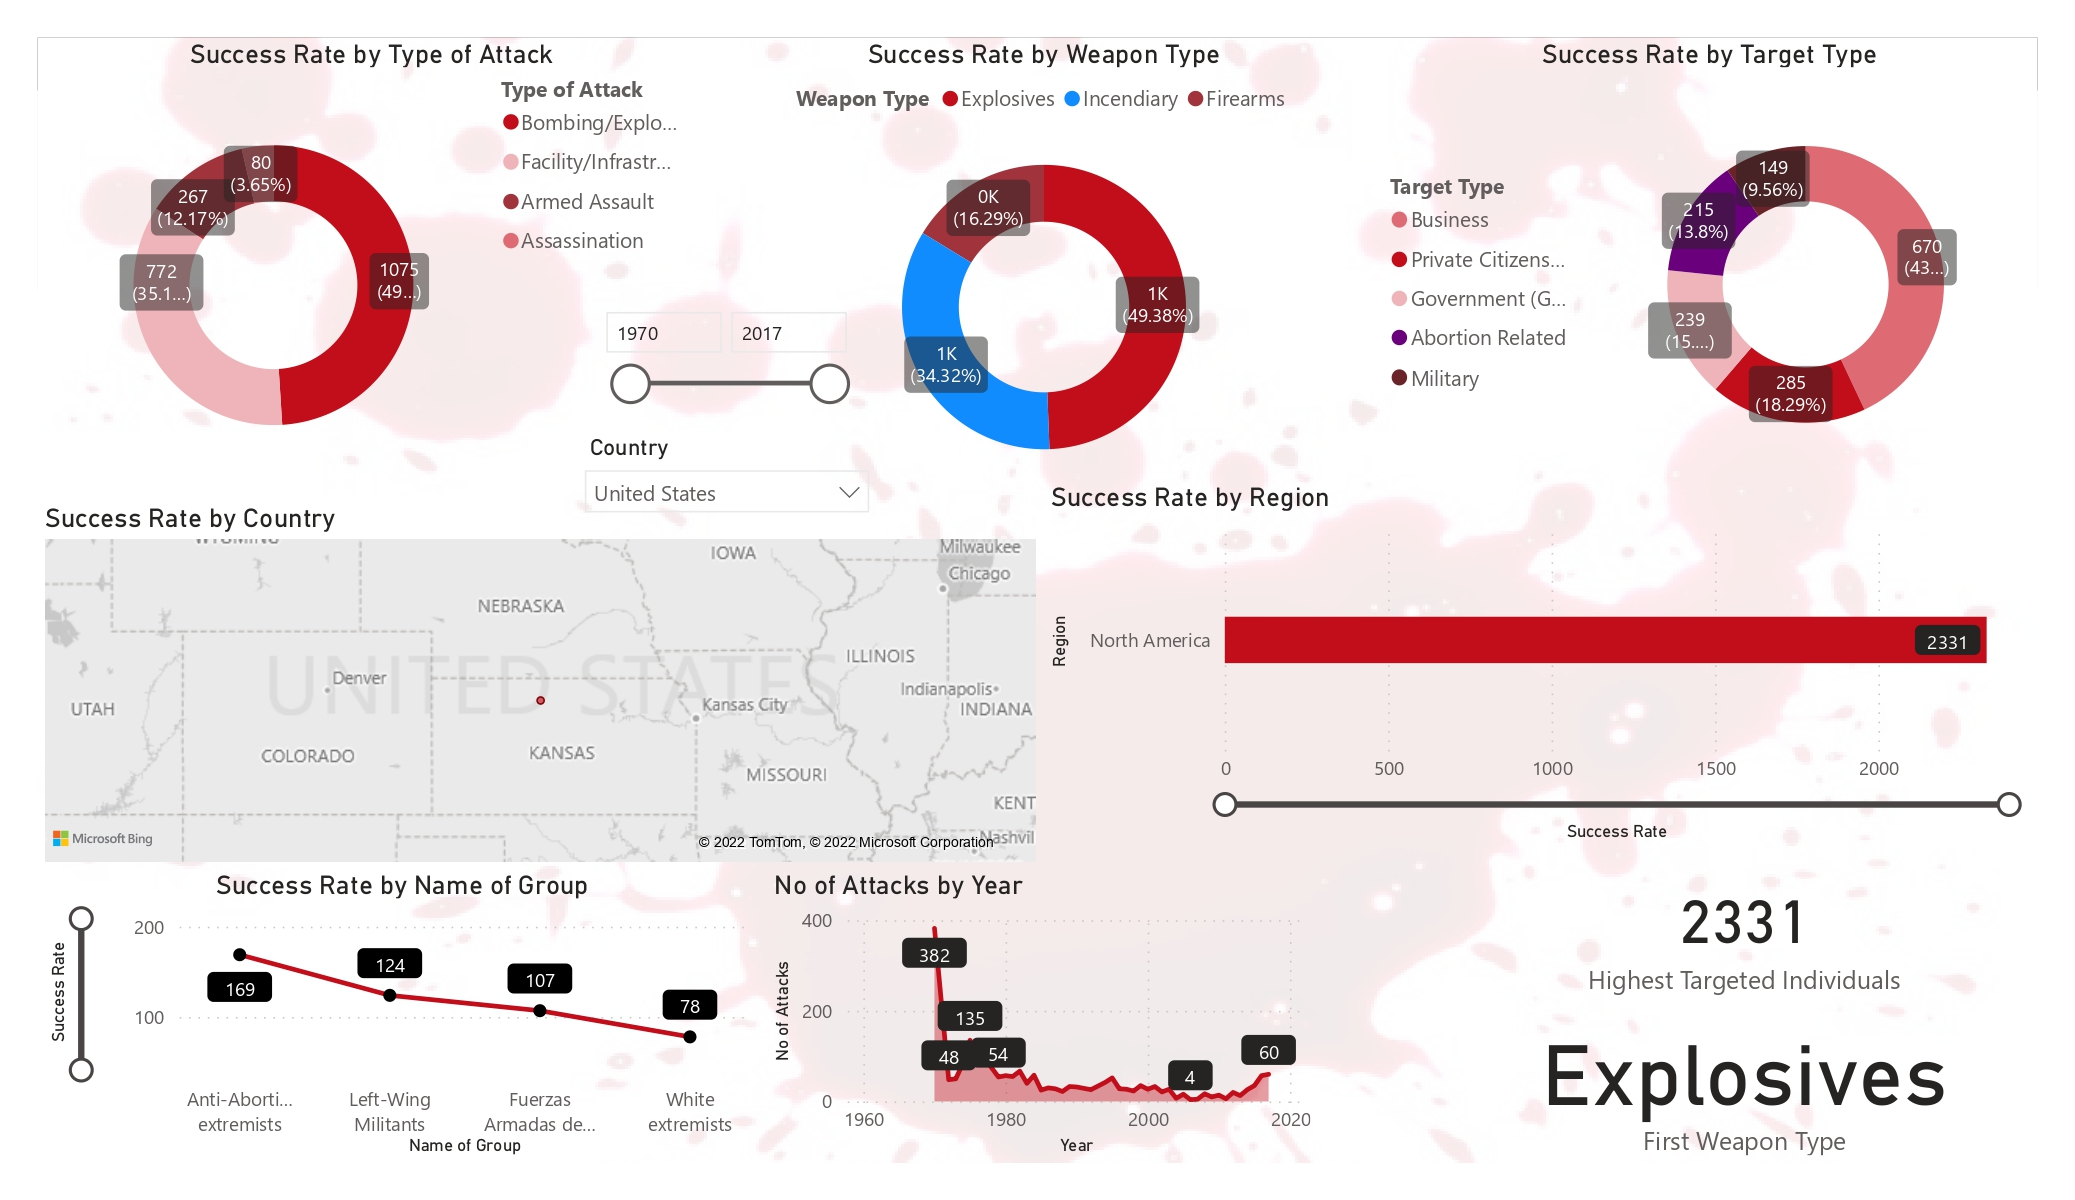

Layout of this report page (visuals, bound fields, positions):
{"tool":"powerbi","page":{"name":"Page 1","canvas":[1280,720],"ordinal":0},"visuals":[{"type":"donutChart","fields":{"Category":["Final Data.Type of Attack"],"Y":["Sum(Final Data.Success Rate)"]},"box":[0,0,427.5,297.5],"z":0},{"type":"donutChart","fields":{"Category":["Final Data.Weapon Type"],"Y":["Sum(Final Data.Success Rate)"]},"box":[427,0,434,297],"z":1000},{"type":"lineChart","fields":{"Y":["Sum(Final Data.Success Rate)"],"Category":["Final Data.Name of Group"]},"box":[0,532,467,188],"z":2000},{"type":"map","fields":{"Category":["Final Data.Country"],"Size":["Sum(Final Data.Success Rate)"]},"box":[0,297,644,235],"z":3000},{"type":"slicer","fields":{"Values":["Final Data.Country"]},"box":[340,249,202,70],"z":4000},{"type":"barChart","fields":{"Category":["Final Data.Region"],"Y":["Sum(Final Data.Success Rate)"]},"box":[644,284,636,235],"z":5000},{"type":"donutChart","fields":{"Y":["Sum(Final Data.Success Rate)"],"Category":["Final Data.Target Type"]},"box":[861,0,419,297],"z":6000},{"type":"slicer","fields":{"Values":["Final Data.Year"]},"box":[351,166,177,80],"z":7000},{"type":"areaChart","fields":{"Category":["Final Data.Year"],"Y":["CountNonNull(Final Data.Year)"]},"box":[467,532,353,188],"z":8000},{"type":"card","fields":{"Values":["CountNonNull(Final Data.Target Type)"]},"box":[962,519,261,107],"z":9000},{"type":"card","fields":{"Values":["Min(Final Data.Weapon Type)"]},"box":[948,614,290,106],"z":10000}]}

Visuals, with their boxes on the page's 1280x720 design canvas (x1, y1, x2, y2). These are canvas units, not pixel positions in the 2075x1200 screenshot, which may show the page scaled, cropped or inside an application window:
donutChart - Final Data.Type of Attack x Sum(Final Data.Success Rate): 0/0/428/298
donutChart - Final Data.Weapon Type x Sum(Final Data.Success Rate): 427/0/861/297
lineChart - Sum(Final Data.Success Rate) x Final Data.Name of Group: 0/532/467/720
map - Final Data.Country x Sum(Final Data.Success Rate): 0/297/644/532
slicer - Final Data.Country: 340/249/542/319
barChart - Final Data.Region x Sum(Final Data.Success Rate): 644/284/1280/519
donutChart - Sum(Final Data.Success Rate) x Final Data.Target Type: 861/0/1280/297
slicer - Final Data.Year: 351/166/528/246
areaChart - Final Data.Year x CountNonNull(Final Data.Year): 467/532/820/720
card - CountNonNull(Final Data.Target Type): 962/519/1223/626
card - Min(Final Data.Weapon Type): 948/614/1238/720
